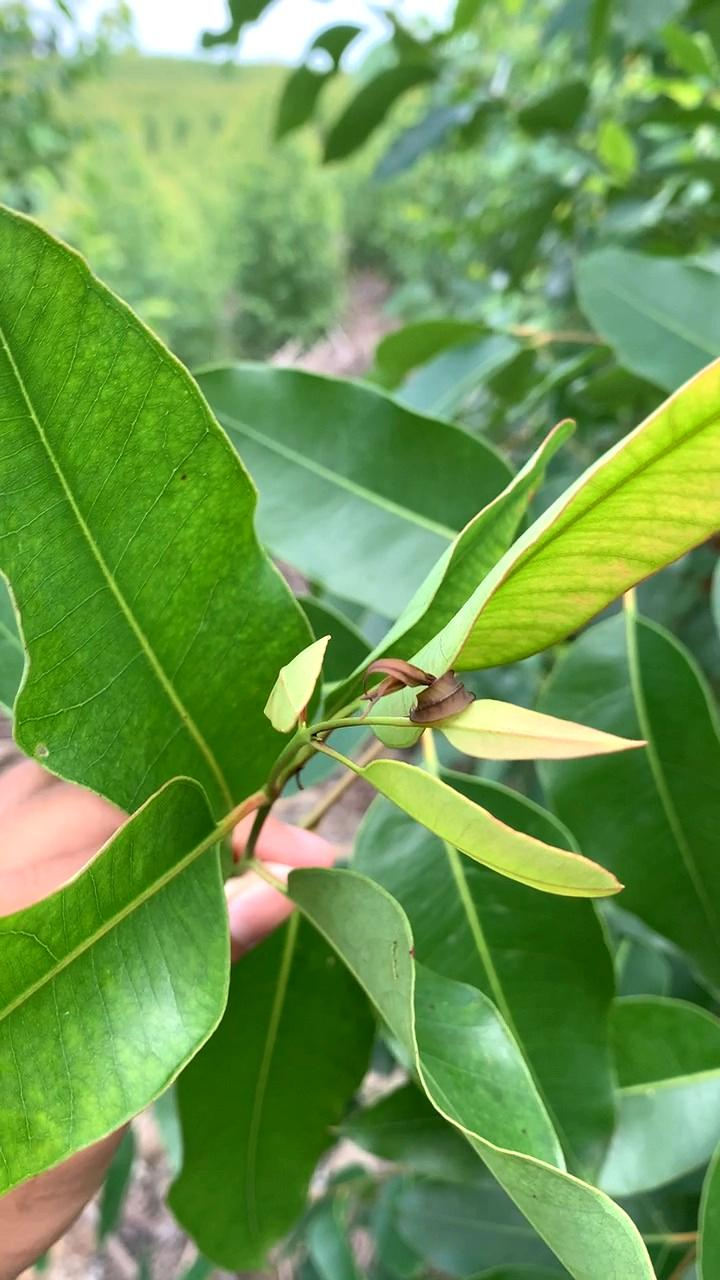Helopeltis-Withered Sprout: (363, 641, 491, 741)
